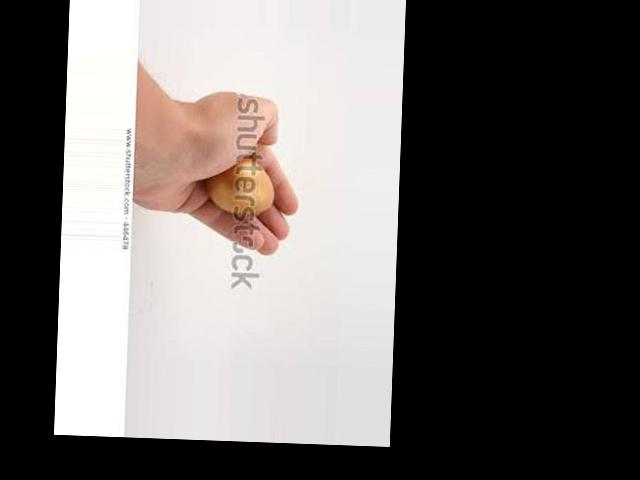egg: (206, 159, 275, 216)
